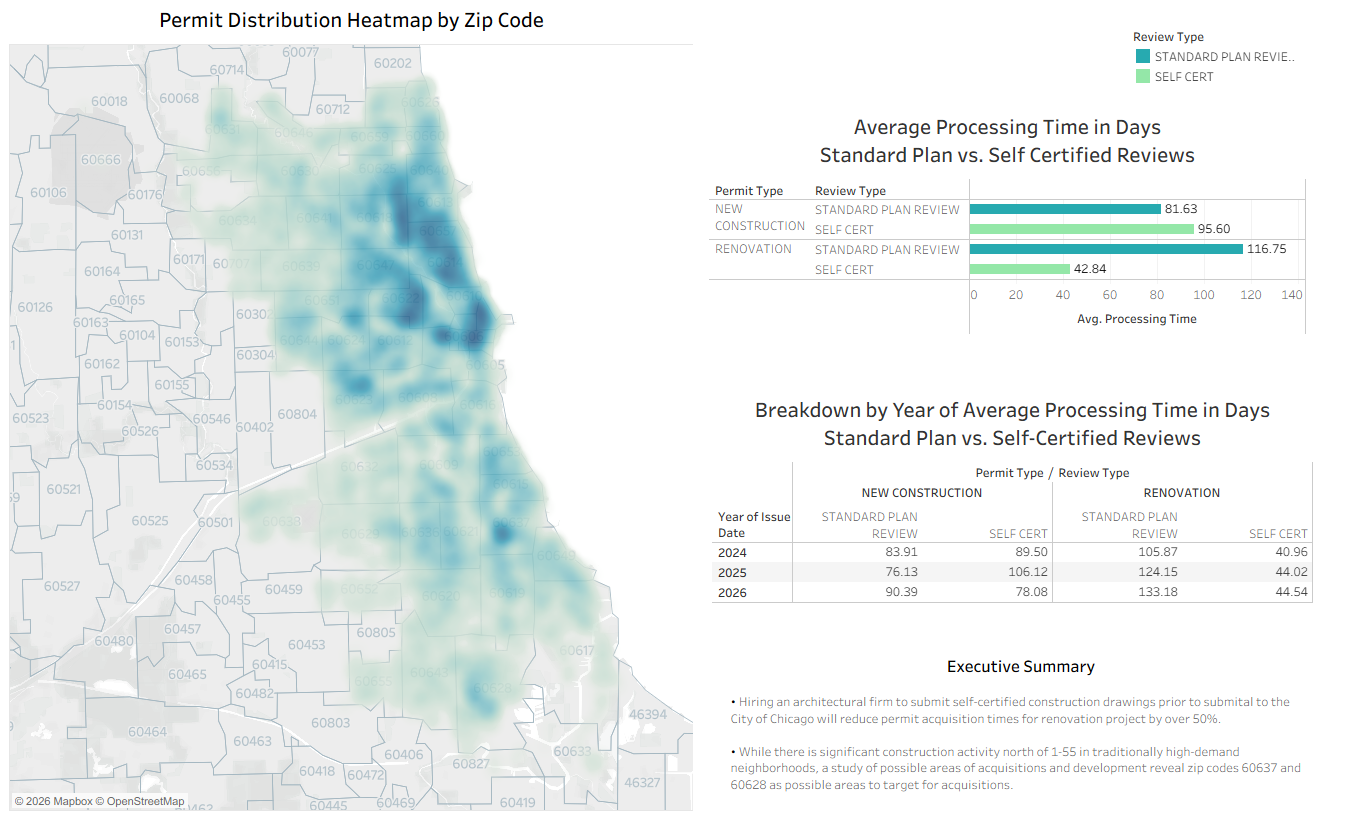

What the dashboard file says about the page in this screenshot:
{"tool":"tableau","page":{"name":"Dashboard 2","canvas":[1000,1000],"units":"permille","ordinal":1},"visuals":[{"type":"blank","box":[3.5,6.4,993.1,987.3]},{"type":"worksheet","title":"Sheet 3","mark":"Heatmap","box":[82.8,13.5,451,933.1]},{"type":"legend","title":"Sheet 5","param":"[federated.0po3am802nalmz1gbcwbu0rpkujt].[none:REVIEW_TYPE:nk]","box":[823.3,45.9,111.5,78.1]},{"type":"filter","title":"Sheet 3","param":"[federated.0po3am802nalmz1gbcwbu0rpkujt].[yr:ISSUE_DATE:ok]","box":[10.4,75.2,65.2,95.7]},{"type":"worksheet","title":"Sheet 5","mark":"Bar","rows":["PERMIT_TYPE","REVIEW_TYPE"],"cols":["PROCESSING_TIME"],"box":[544.3,139.7,393.1,281.2]},{"type":"worksheet","title":"Sheet 5 (2)","mark":"Automatic","rows":["ISSUE_DATE"],"cols":["PERMIT_TYPE","REVIEW_TYPE"],"box":[546.4,470.5,399.4,245.2]},{"type":"text","box":[550.3,738.1,257.2,186.3]},{"type":"text","box":[6.9,956.2,135.3,27.9]}]}

Visuals, with their boxes on the dashboard's canvas, which has no fixed pixel size, in thousandths of its width and height (x1, y1, x2, y2). These are canvas units, not pixel positions in the 1370x819 screenshot, which may show the page scaled, cropped or inside an application window:
blank: 4, 6, 997, 994
"Sheet 3" worksheet (Heatmap marks): 83, 14, 534, 947
"Sheet 5" legend: 823, 46, 935, 124
"Sheet 3" filter: 10, 75, 76, 171
"Sheet 5" worksheet (Bar marks): 544, 140, 937, 421
"Sheet 5 (2)" worksheet: 546, 470, 946, 716
text: 550, 738, 808, 924
text: 7, 956, 142, 984
